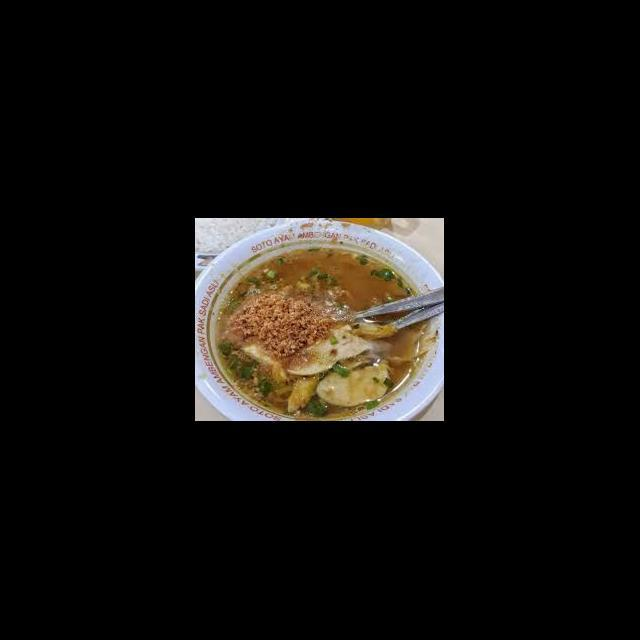Soto: (195, 220, 443, 421)
